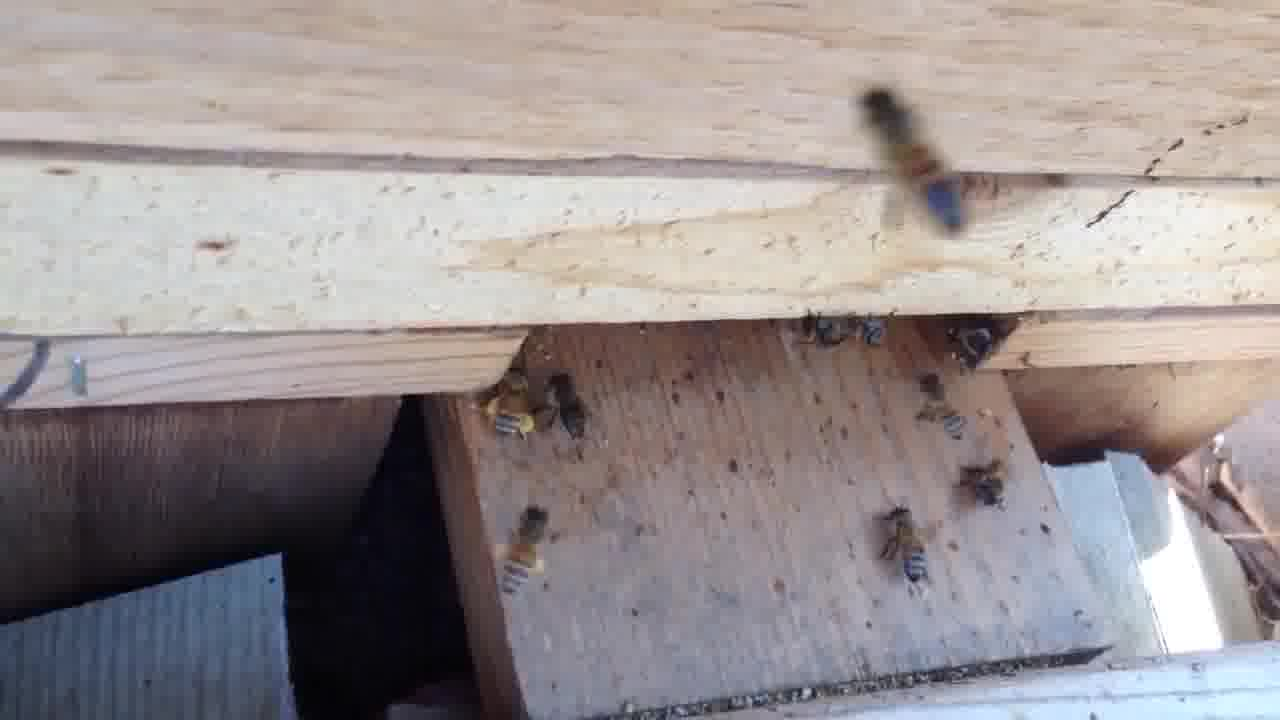pollen: (490, 500, 551, 594), (483, 371, 540, 449)
